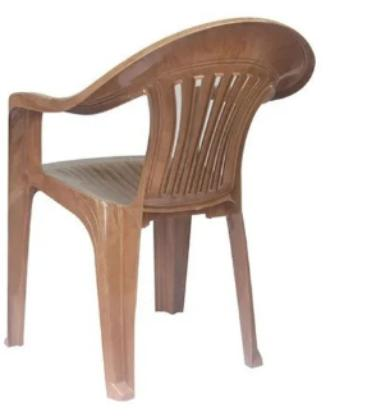chair: (3, 12, 322, 404)
